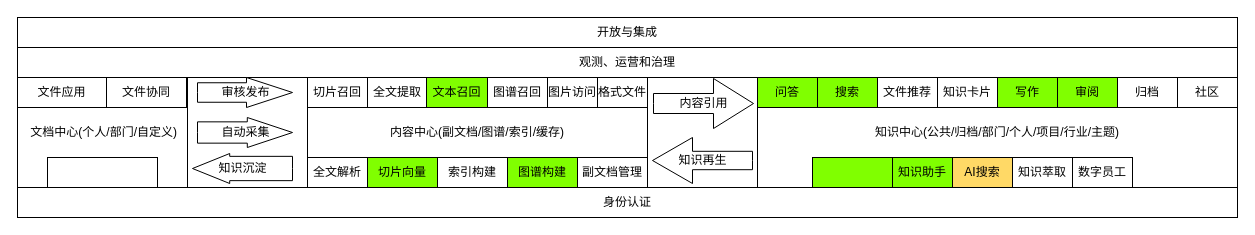
Image size: 1255x235. Some labels were removed from this diagram. Here are the shapes that lost their labels. From the top down, the centre of each, then its label:
At (x=102, y=172): "文件存储".
At (x=852, y=172): "自定义 智能体".
